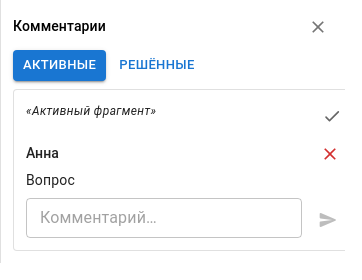
CommentsSidebar › shows active threads by default and switches to resolved
The width and height of the screenshot is (362, 280).
Expected: the text "«Активный фрагмент»" is shown, [26, 104, 156, 118]
Expected: the text "«Решённый фрагмент»" is not shown
Click the button "Решённые": (157, 65) [114, 50, 200, 81]
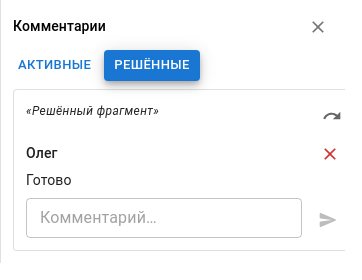
Now the text "«Решённый фрагмент»" is shown, box [26, 104, 159, 118]
